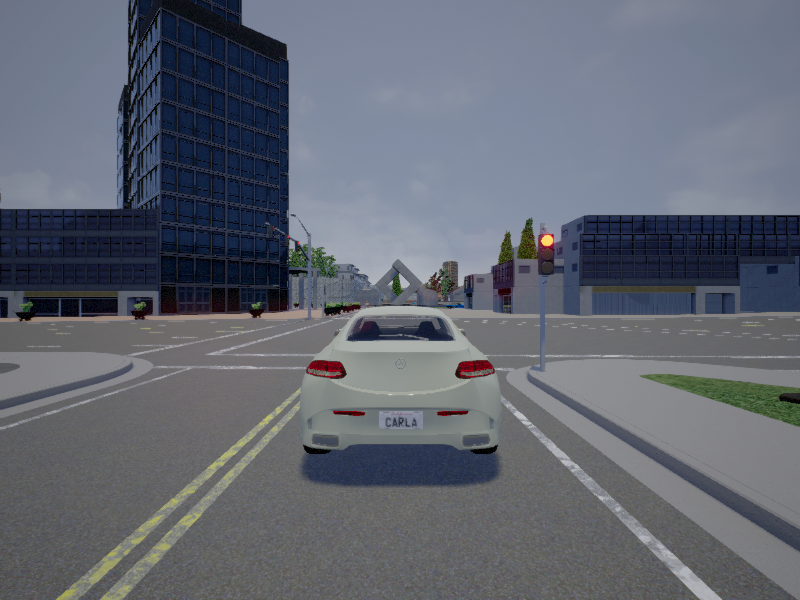Benign: (301, 306, 502, 463)
